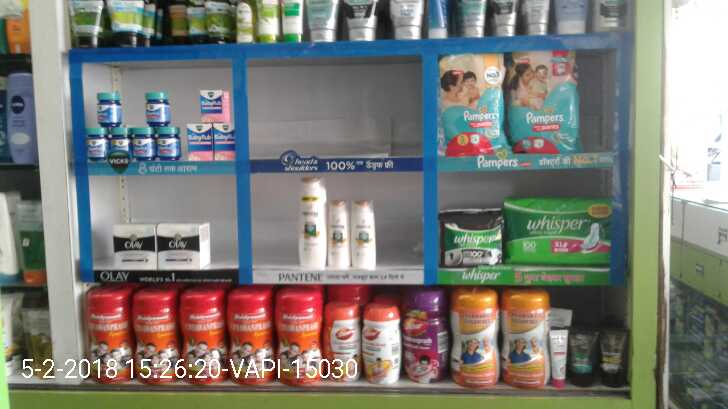vicks: (87, 88, 182, 163), (186, 83, 234, 161)
